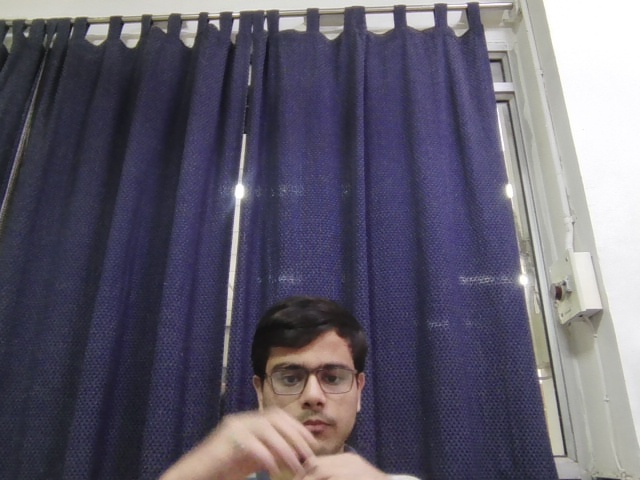face: (252, 297, 368, 414)
